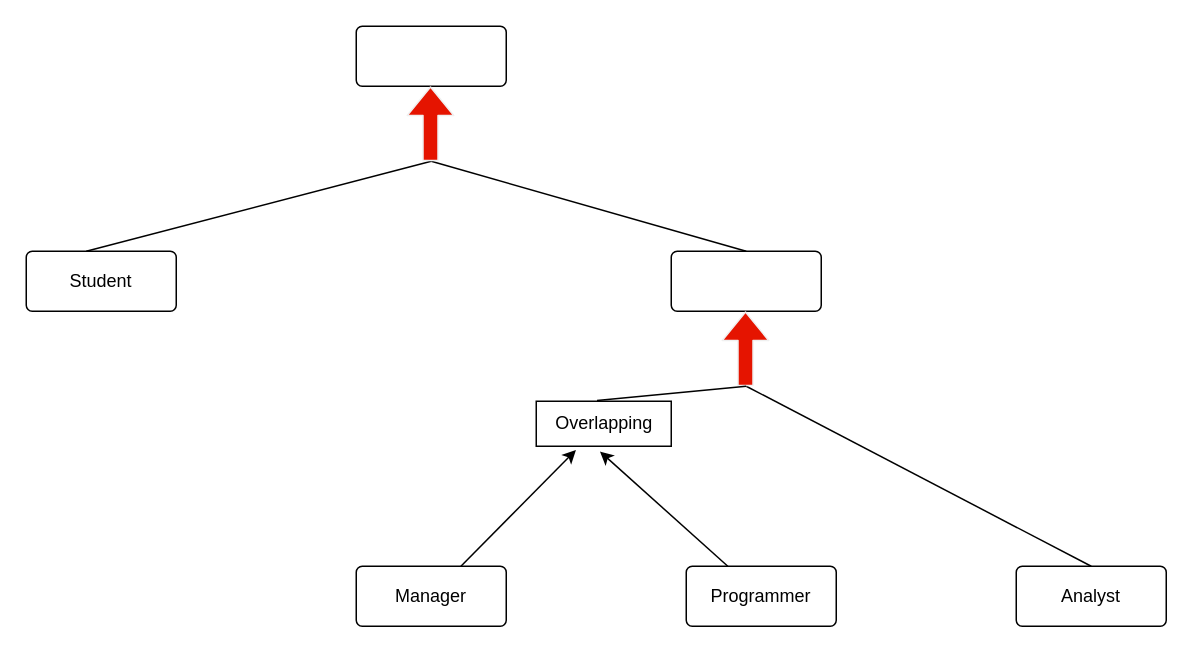
Image size: 1193x653. Some labels were removed from this diagram. Each missing label, with the centre of its shape:
"Employee" belongs at point (745, 280).
"Person" belongs at point (430, 55).
